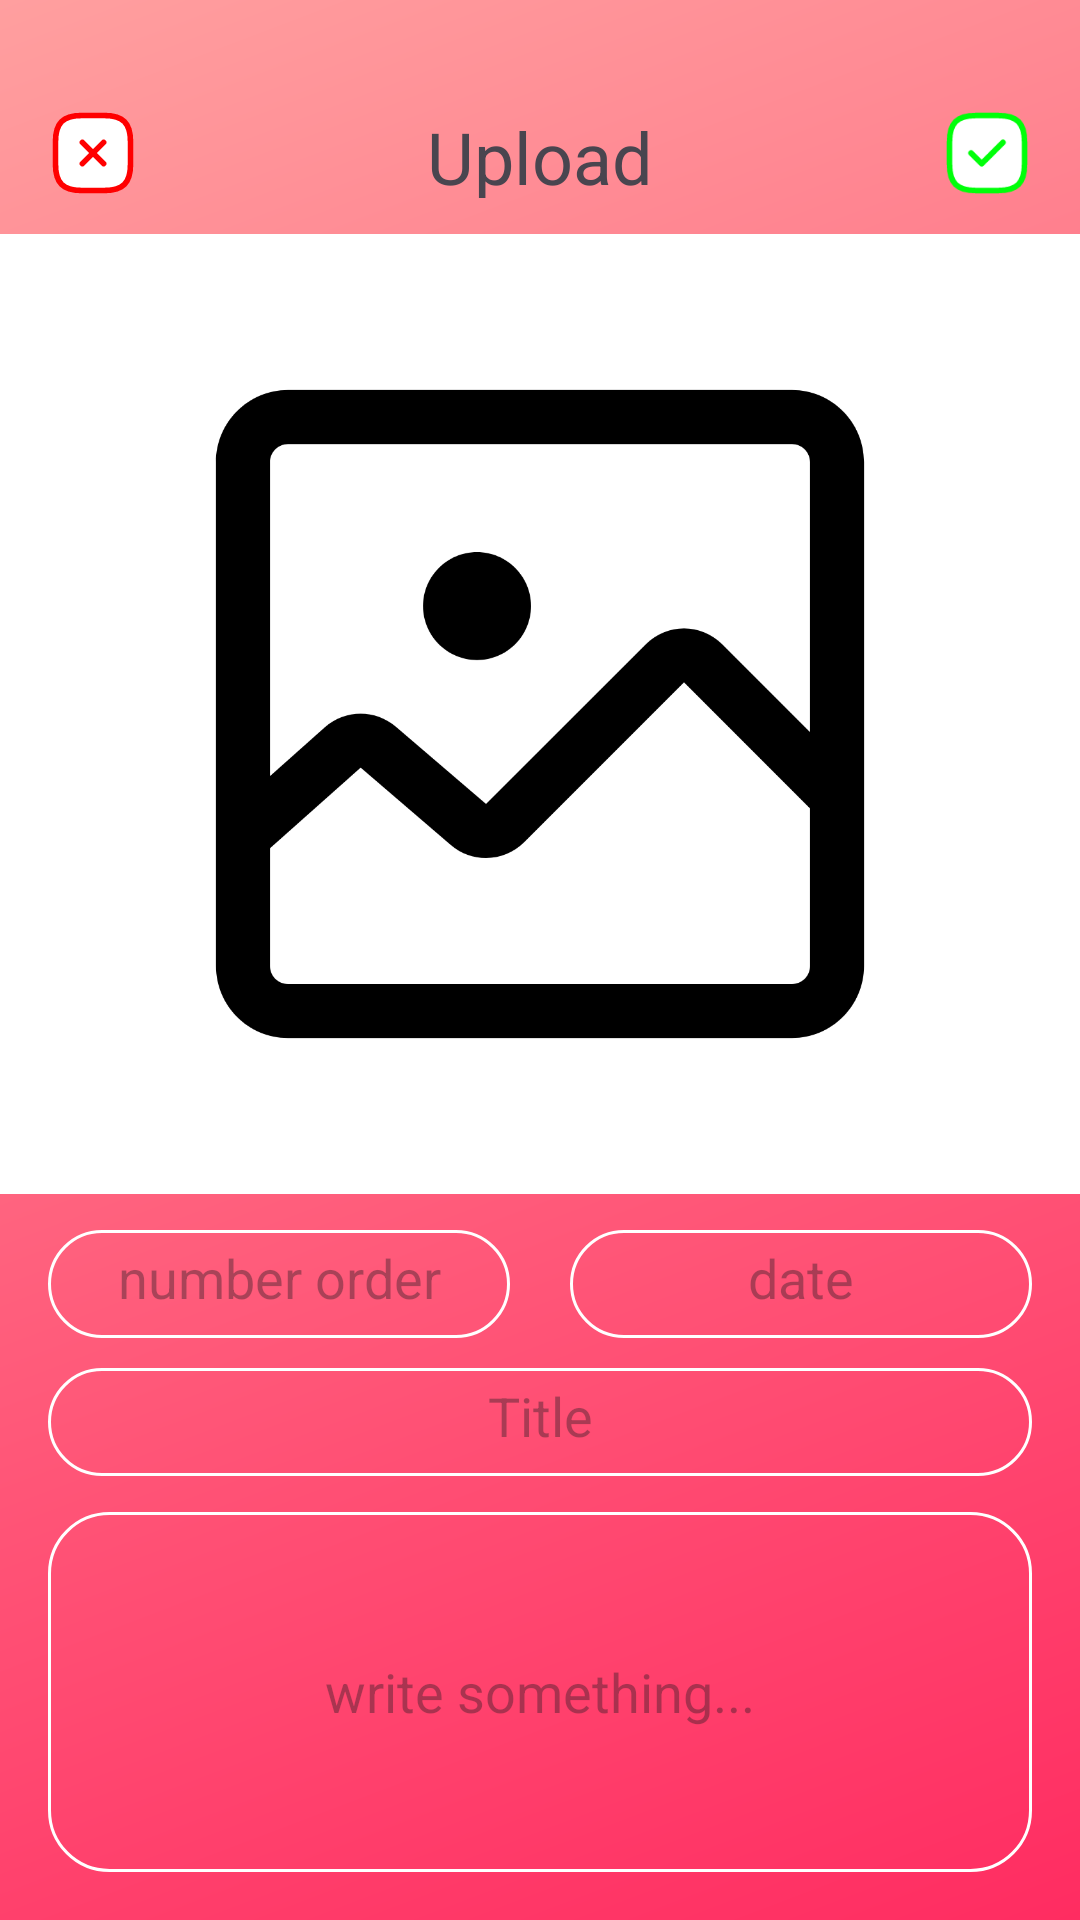

Icons on this 1080px×1920px Android screen, each with the point to tap as [x,y]:
closesquare: [93,153]
ticksquare: [987,153]
